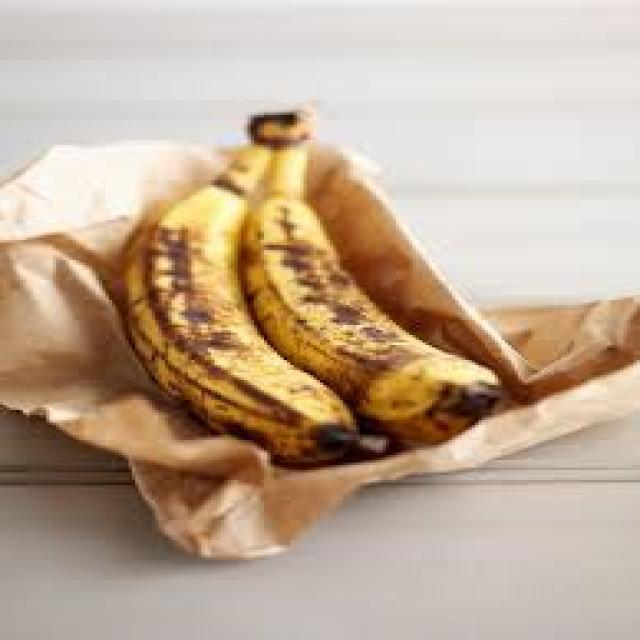banana: (120, 104, 503, 464)
